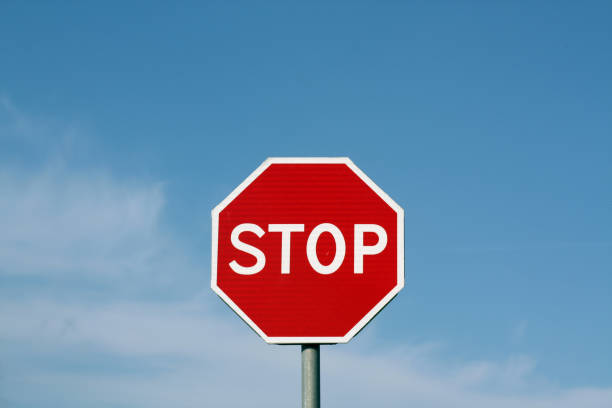stop: (209, 156, 407, 343), (210, 158, 410, 323), (209, 158, 382, 342), (210, 189, 407, 347), (258, 157, 410, 348)
